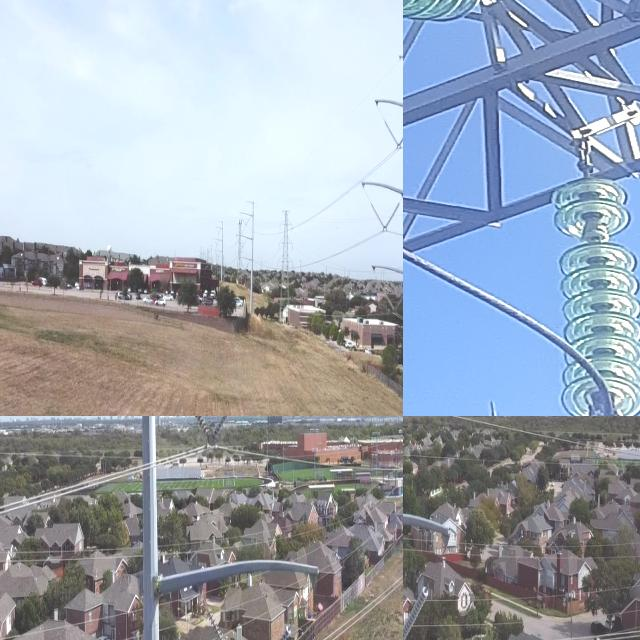杆塔: (271, 201, 297, 333)
正常电缆: (0, 442, 196, 525), (409, 416, 640, 469), (318, 569, 403, 640), (0, 599, 144, 640), (236, 445, 403, 478)
正常绝缘子: (545, 166, 640, 416), (188, 416, 229, 465), (403, 582, 433, 640), (203, 416, 237, 458), (362, 192, 390, 238), (375, 195, 403, 240), (200, 603, 231, 640), (379, 109, 403, 156), (377, 276, 399, 319), (387, 290, 403, 327), (392, 125, 403, 157)
绝缘子破损: (579, 223, 612, 241)
